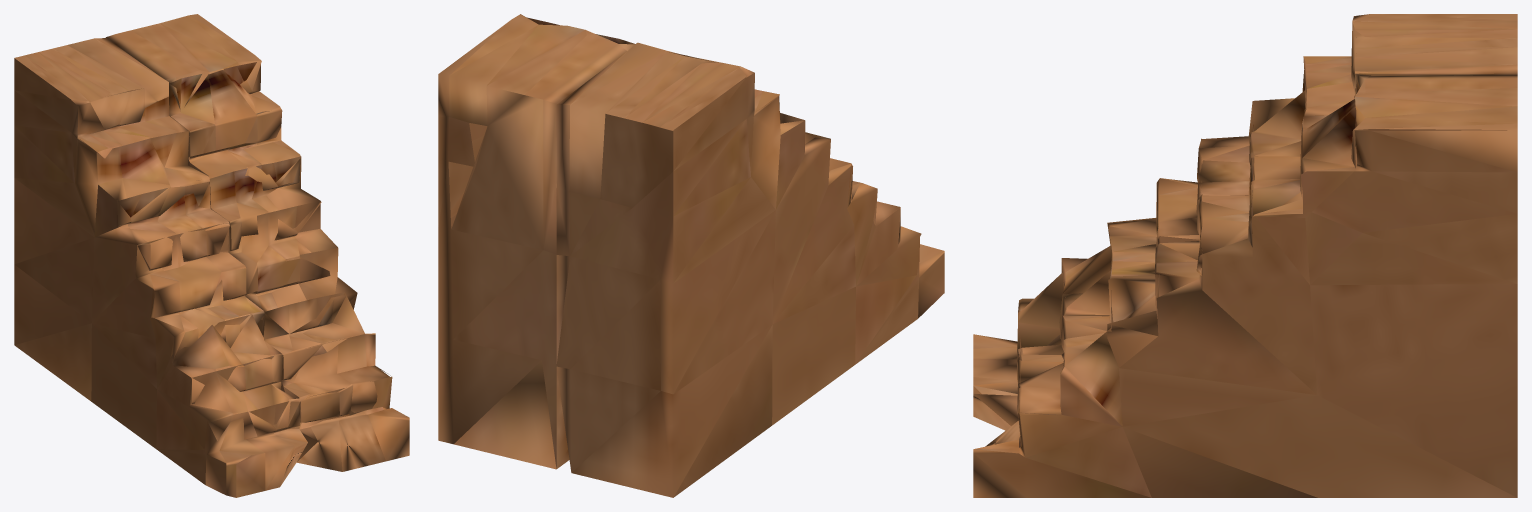
File: stairs-wood.lod2.glb
The picture shows the model from 3 angles, left to right: view 1: azimuth 30°, elevation 25°; view 2: azimuth 150°, elevation 25°; view 3: azimuth 270°, elevation 25°; orthographic projection. The views are drawn at different scales.
Bounding box in the file's own units: 2 × 2.99 × 4.
Materials: 1 (1 with a texture image).
